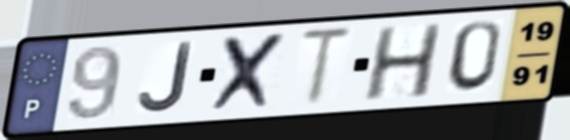0: (442, 19, 504, 96)
9: (64, 44, 123, 123)
H: (360, 21, 445, 104)
J: (135, 40, 196, 116)
T: (296, 25, 358, 110)
X: (206, 29, 293, 115)
